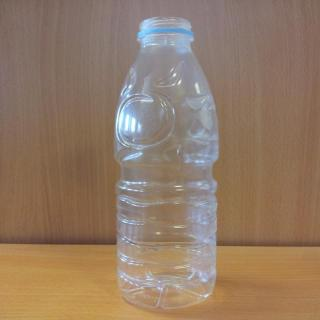Anorganik: (110, 12, 232, 316)
